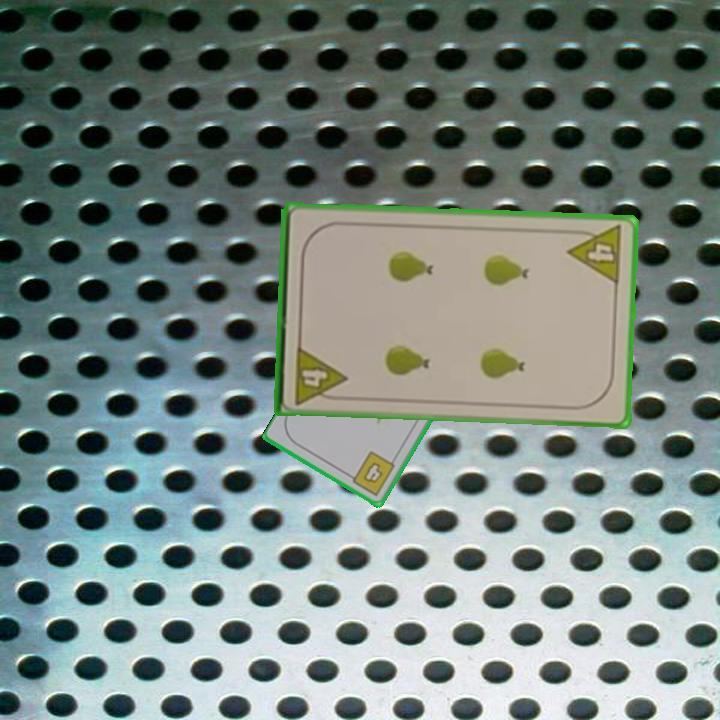4b: (344, 447, 398, 499)
4p: (565, 222, 626, 287), (291, 342, 349, 407)
